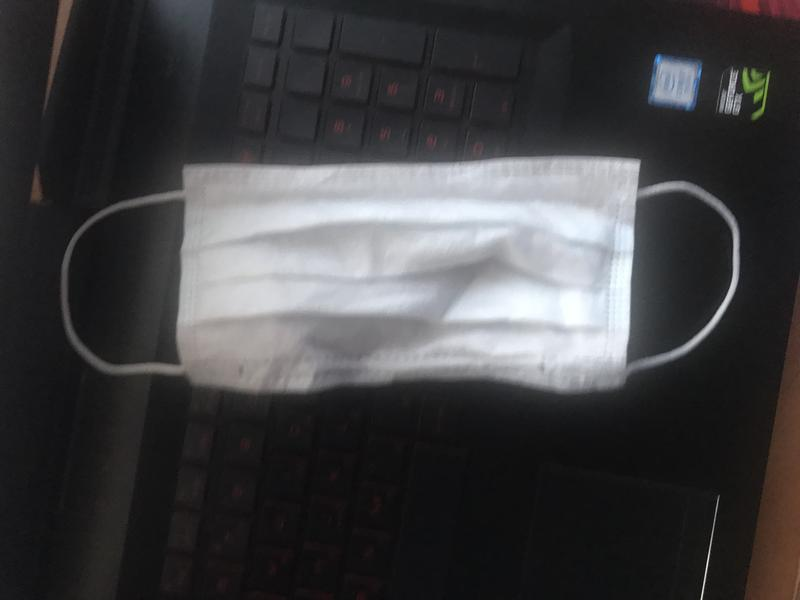medical_mask: (59, 158, 741, 391)
